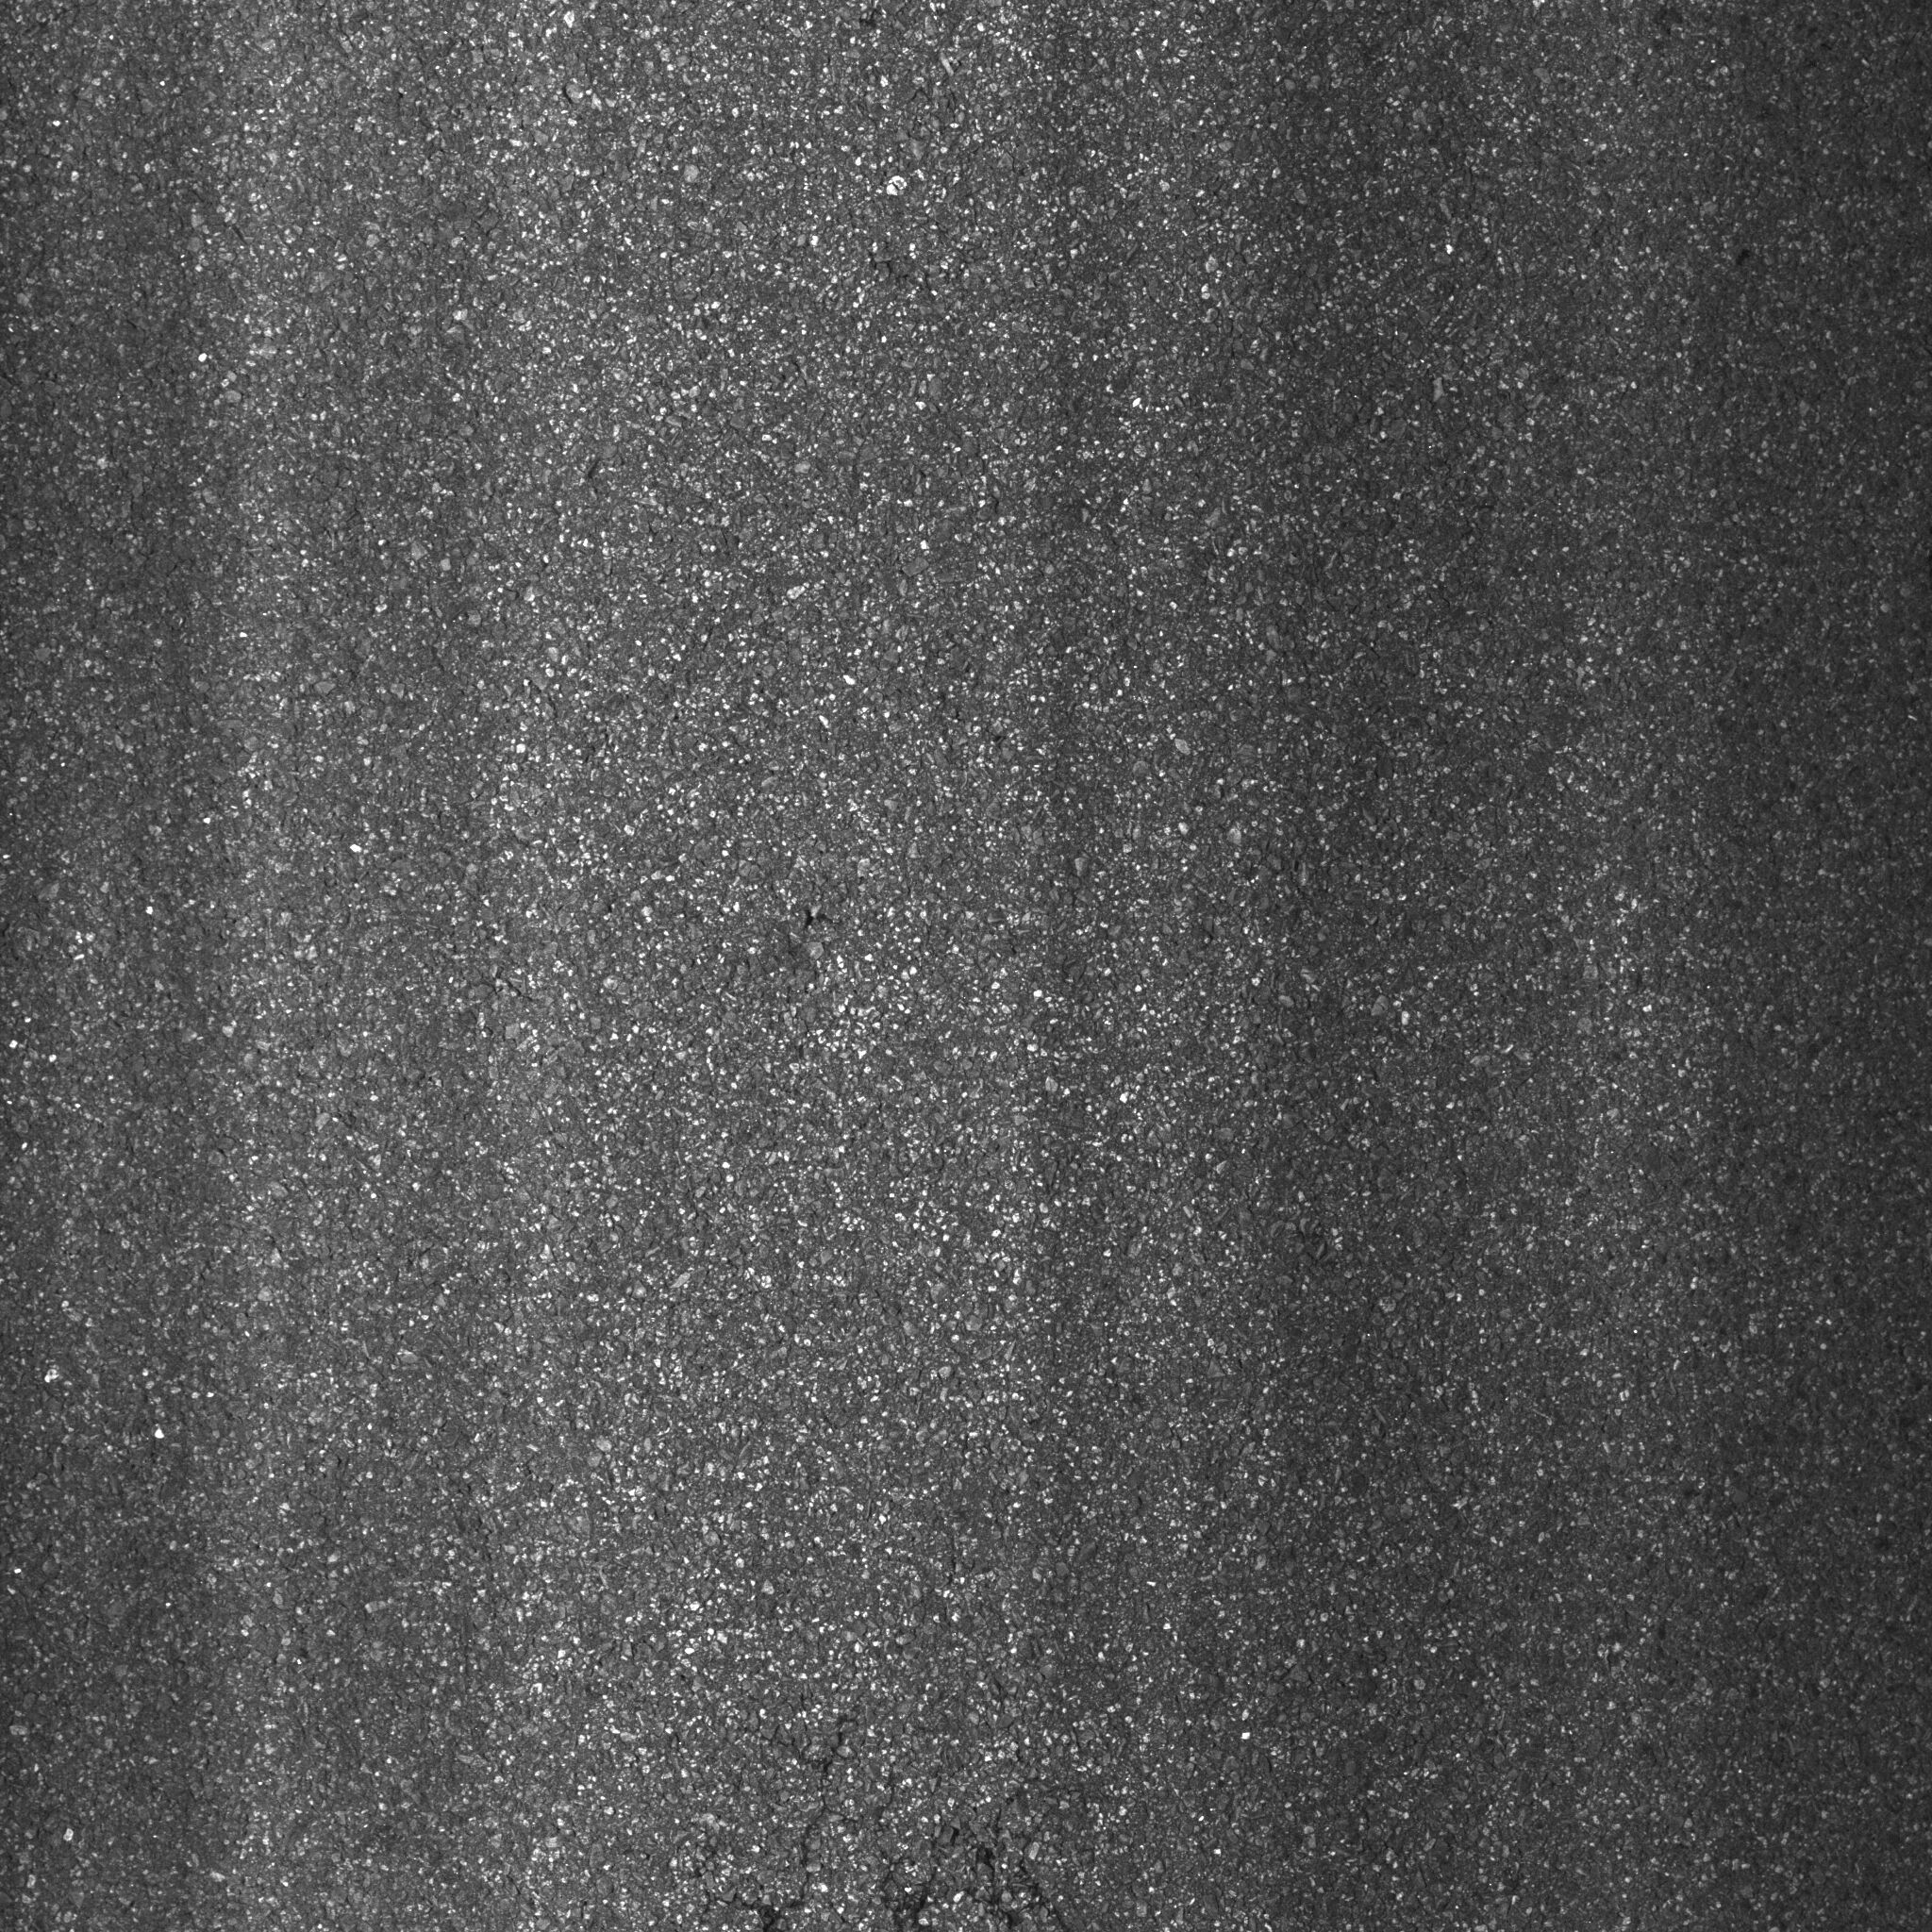alligator: (609, 1693, 1125, 1932)
